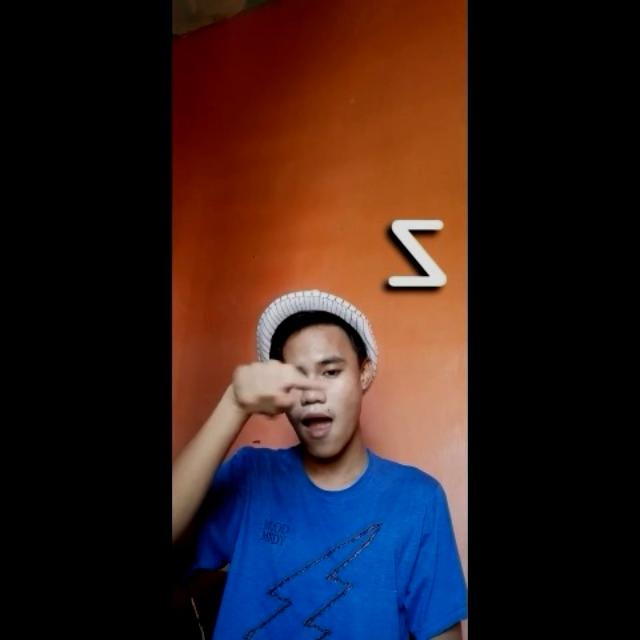Z: (235, 359, 332, 417)
